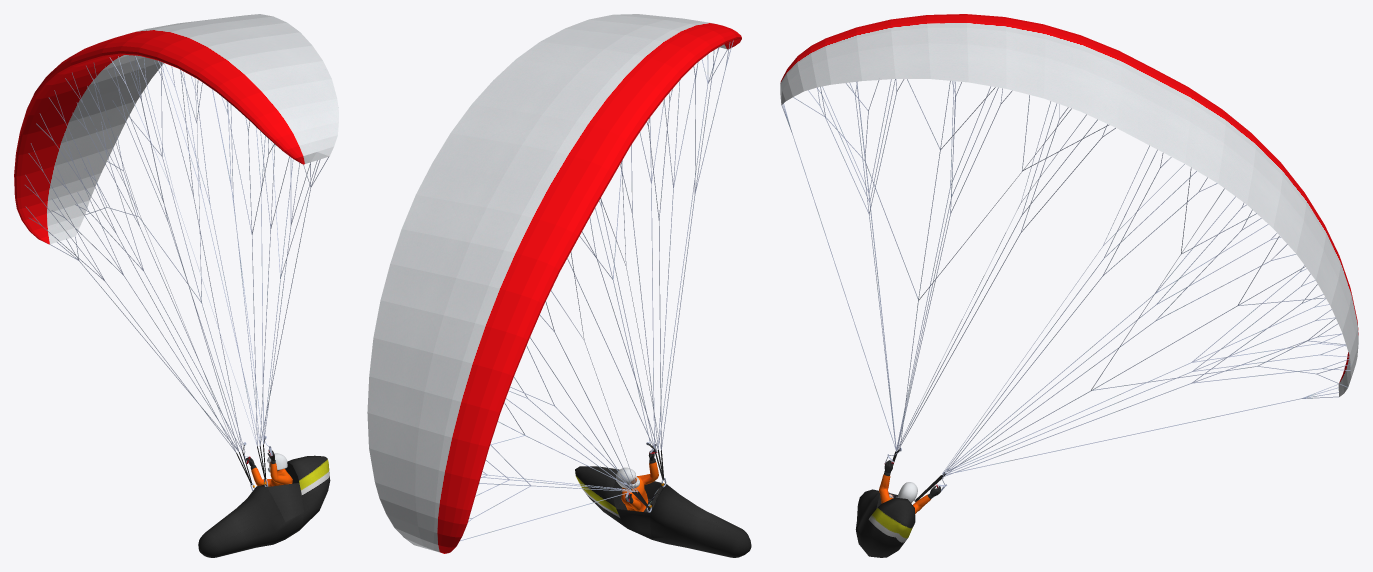
File: paraglider-red-thermal-cbj_LOD00.gltf
3 views of the same model, side by side, from view 1: azimuth 30°, elevation 25°; view 2: azimuth 150°, elevation 25°; view 3: azimuth 270°, elevation 25° (orthographic). The views are drawn at different scales.
Visible parts, largest first — view 1: glider00; view 2: glider00; view 3: glider00.
Part boxes in pixels (x1,y1,x2,y2): glider00: [14, 14, 338, 557]; glider00: [367, 14, 751, 557]; glider00: [780, 14, 1358, 557].
Size of what is drawn, in the model's own units: 2.82 by 8 by 8.12.
